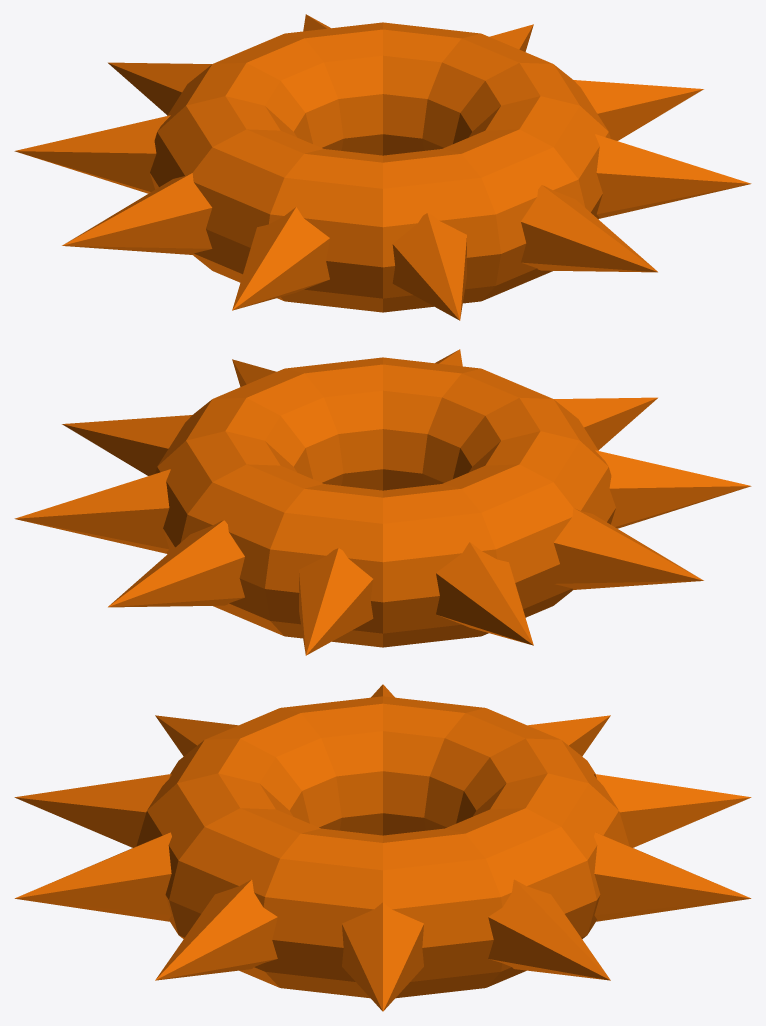
File: NPC.fbx
3 renders of one model, top to bottom at view 1: azimuth 30°, elevation 25°; view 2: azimuth 150°, elevation 25°; view 3: azimuth 270°, elevation 25°, orthographic. The views are drawn at different scales.
Parts seen in each view (by area): view 1: NPC_Red; view 2: NPC_Red; view 3: NPC_Red.
Boxes of the visible parts, left/top/right/bottom form: NPC_Red: left=14, top=14, right=751, bottom=320; NPC_Red: left=14, top=349, right=751, bottom=655; NPC_Red: left=14, top=684, right=751, bottom=1011.
Bounding box in the file's own units: 4.71 × 1 × 4.48.
